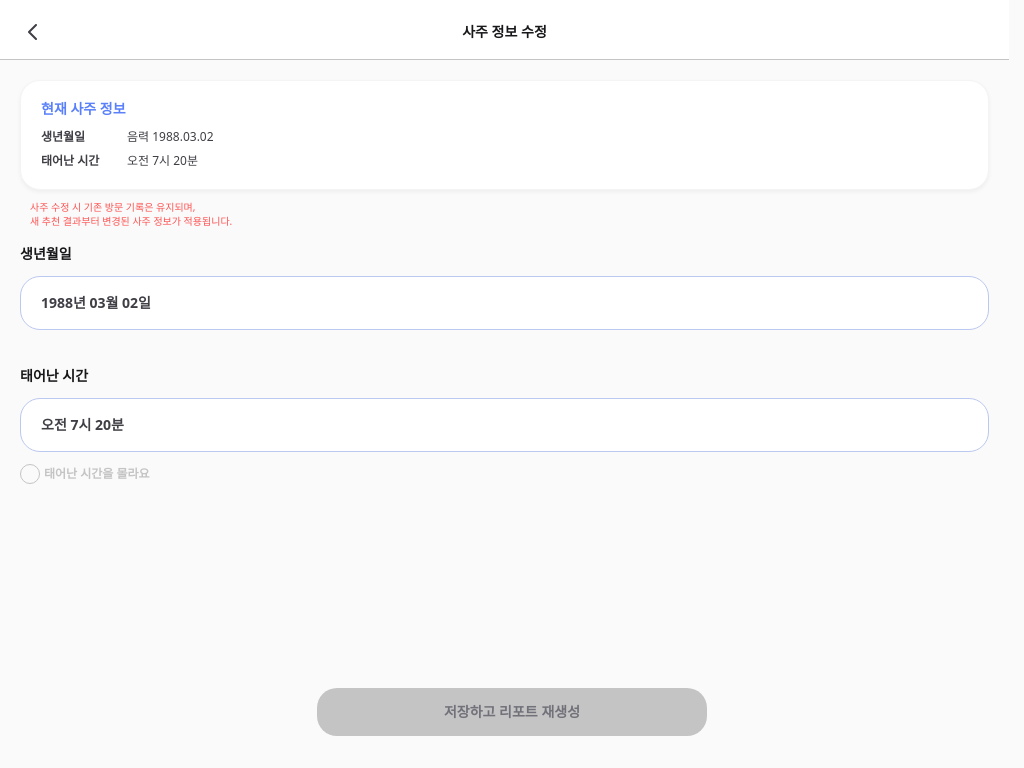
SajuEditPage 프리필 잠금 › 응답이 도착한 뒤에는 시트가 열린다
Click the button "1988년 03월 02일": (96, 302) [20, 276, 989, 330]
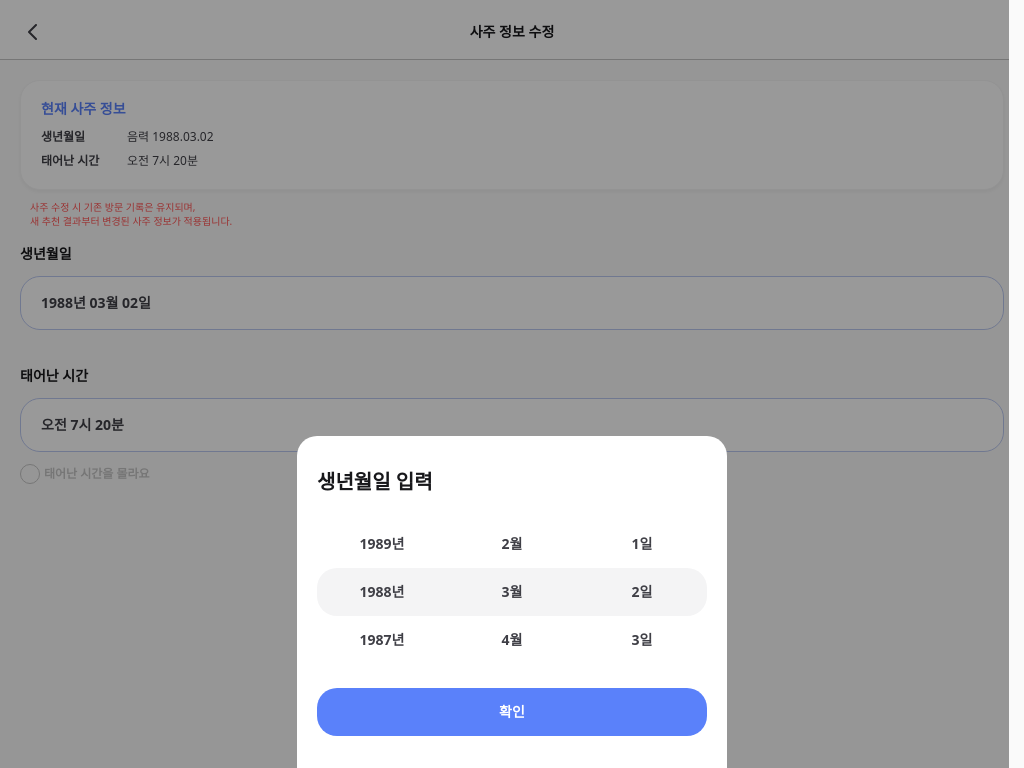
Expected: the heading "생년월일 입력" is shown, [317, 468, 433, 495]
